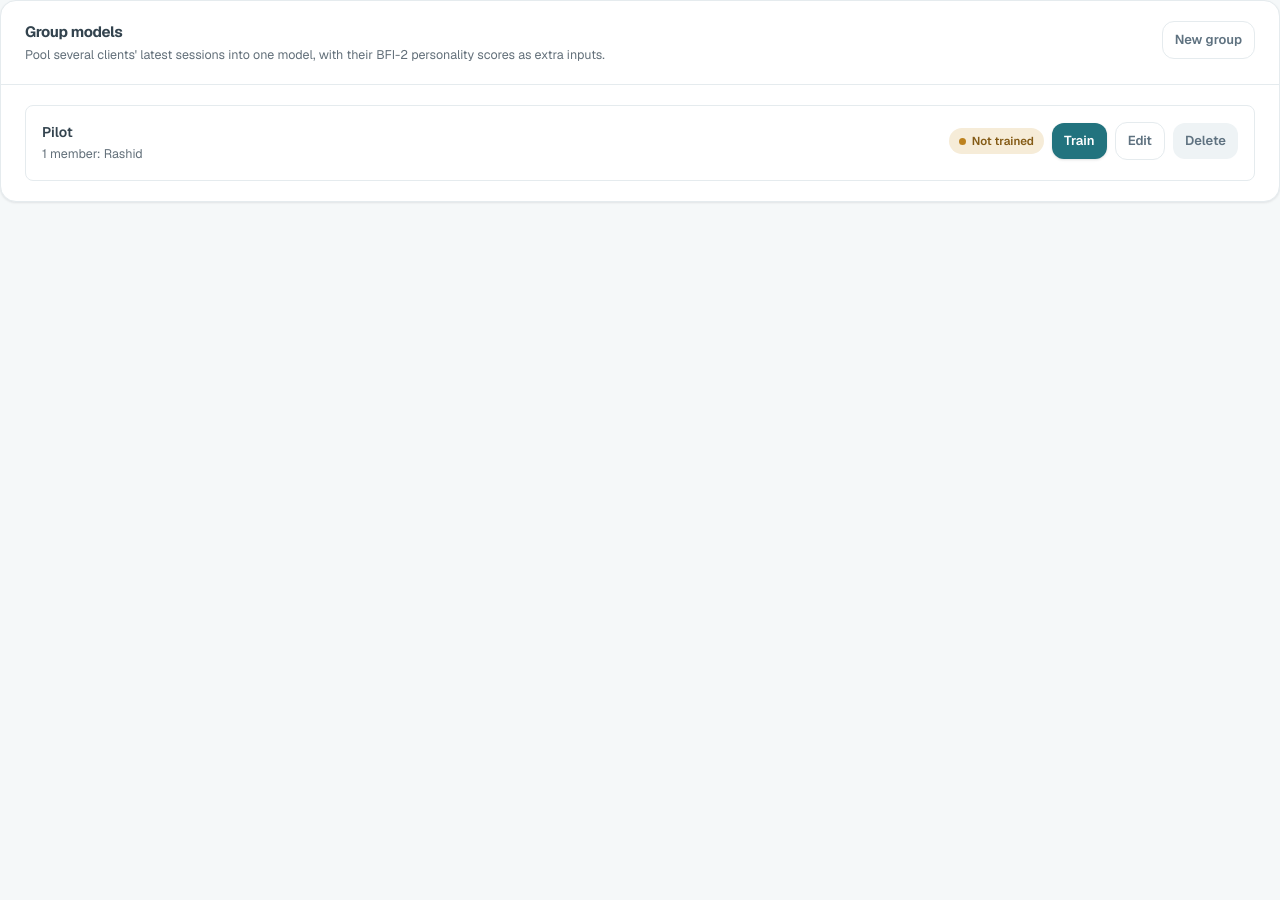
Scenario: MlGroupsPanel › training shows progress, polls, then shows the outcome and who was left out
Expected: the heading "Pilot" is shown, [42,123,73,141]
Expected: the text "Not trained" is shown, [949,128,1044,154]
What coordinates should you click on to do the following:
click the button "Train"
I would click on:
 (1079, 141)
Its box is [1052,123,1107,159].
Wait 4500 ms
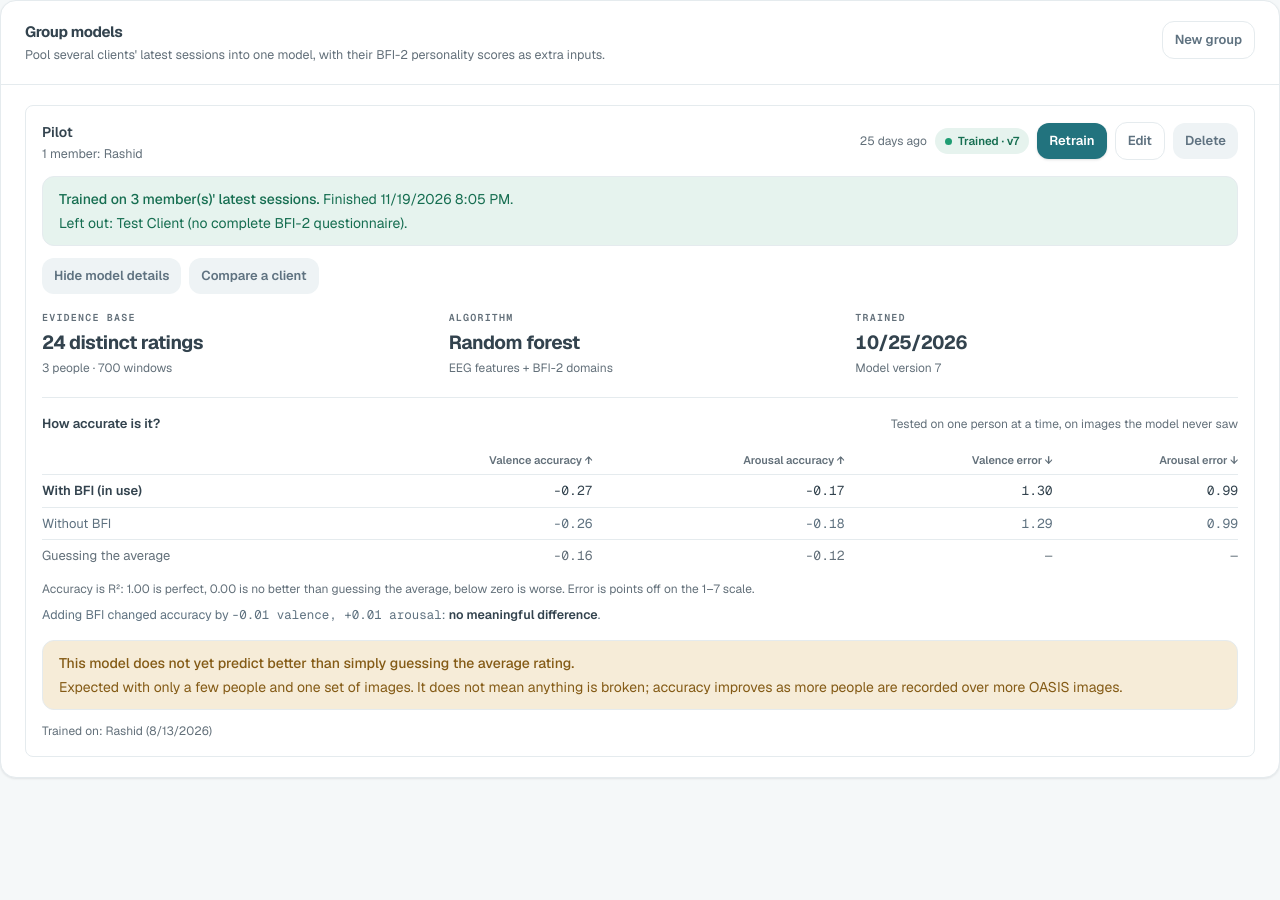
Expected: the text "Training… started at" is shown, [59,190,513,208]
Expected: the text "Left out: Test Client (no complete BFI-2 questionnaire)." is shown, [59,214,407,232]
Expected: the text "Trained · v7" is shown, [935,128,1029,154]
